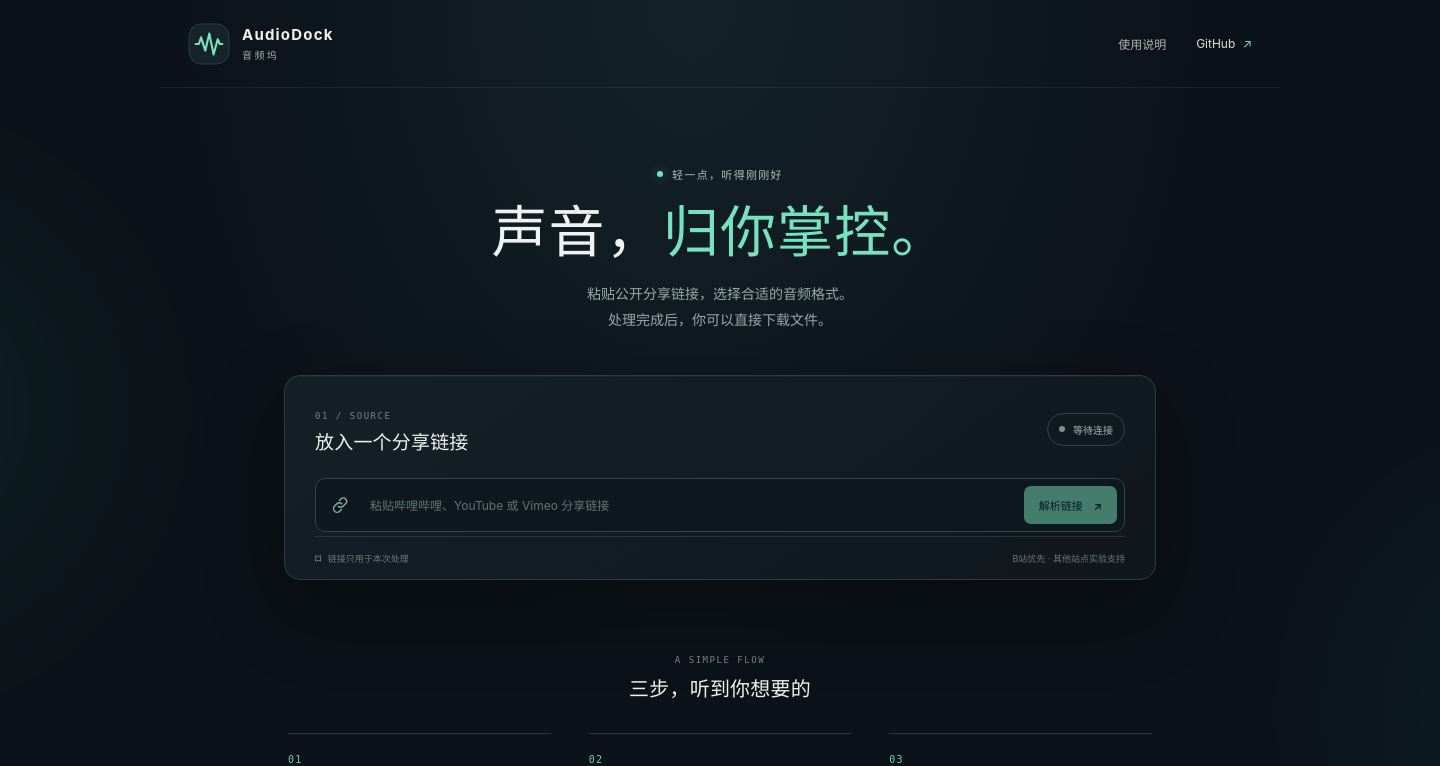
AudioDock task flow › retries a failed inspection and shows the recognized source after the real retry succeeds
Type "https://example.org/audio" into the field named "分享链接或文字". click: (690, 505)
box: [363,498,1018,513]
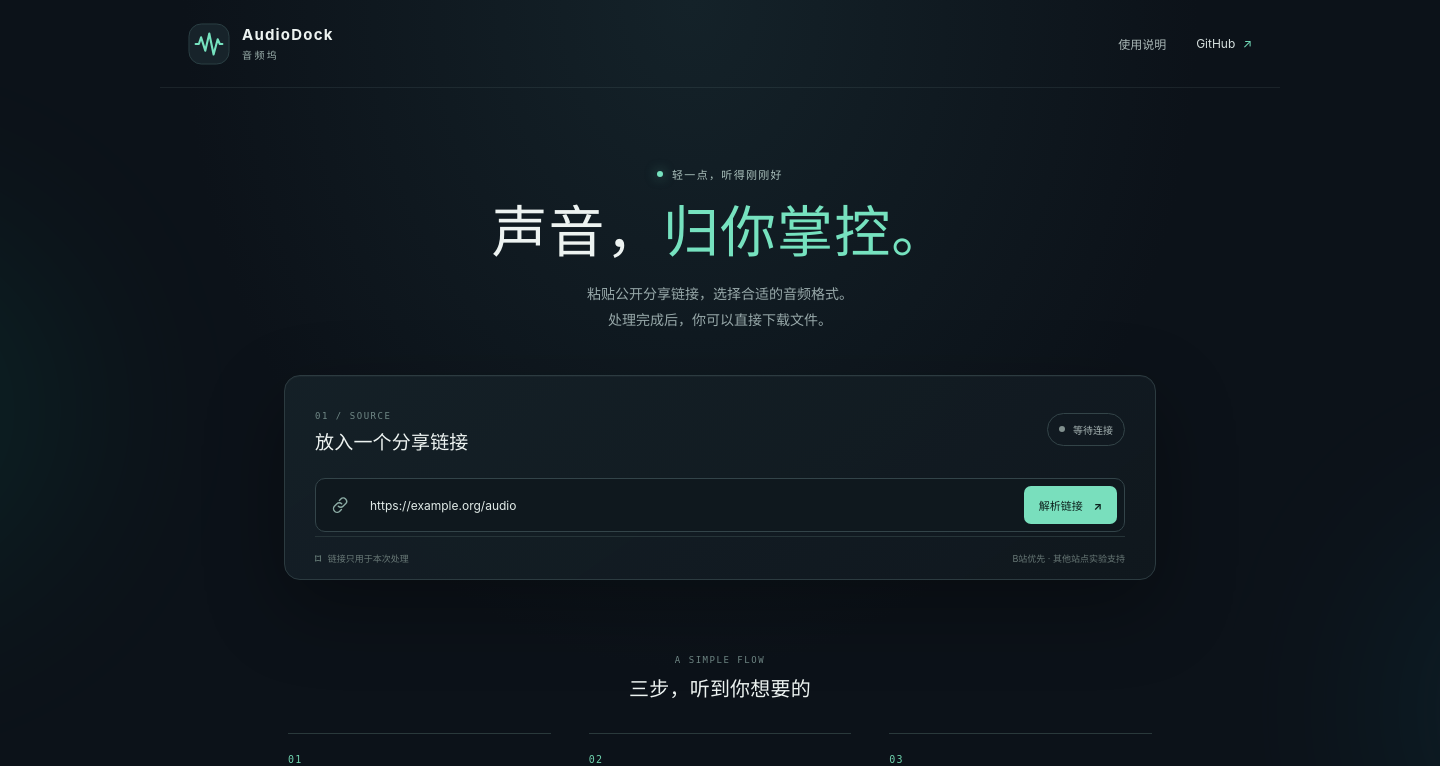
Click the button "解析链接 ↗". click: (1070, 505)
box: [1024,486,1117,524]
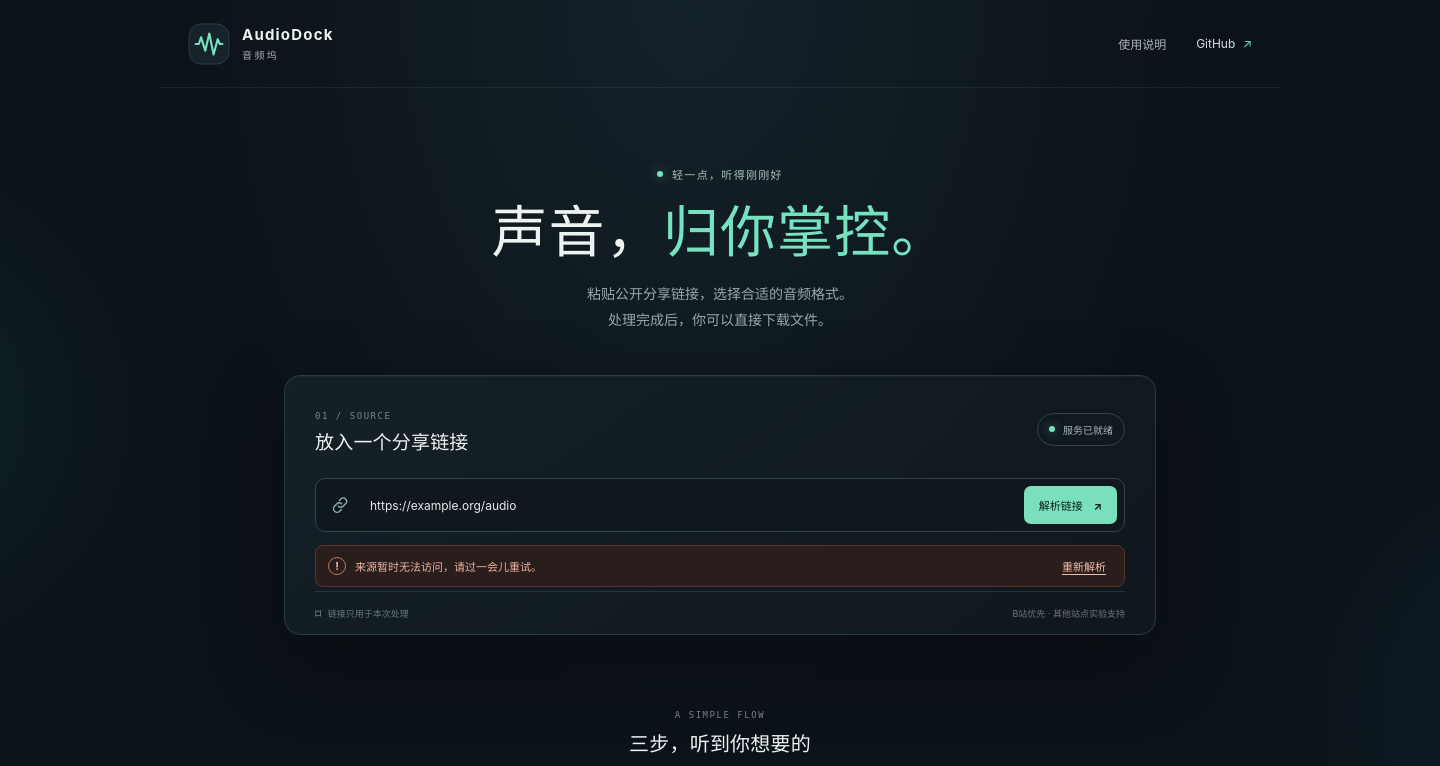
Expected: the text "✓ 已识别" is not shown
Expected: the message shows "来源暂时无法访问，请过一会儿重试。", [355,560,542,574]
Expected: the text "服务已就绪" is shown, [1037,413,1125,446]
Click the button "重新解析". click: (1084, 566)
box: [1056,557,1112,575]
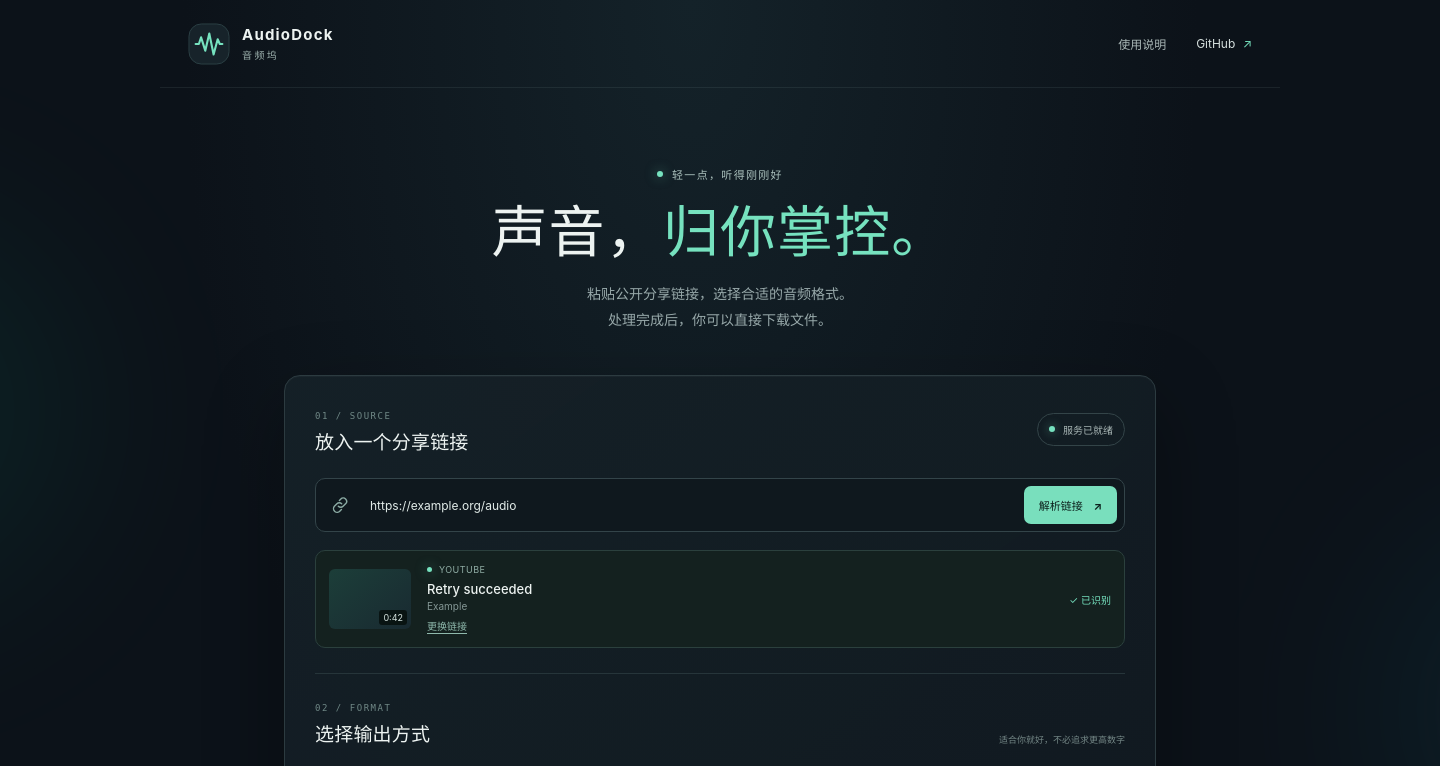
Expected: the heading "Retry succeeded" is shown, [427,581,532,597]
